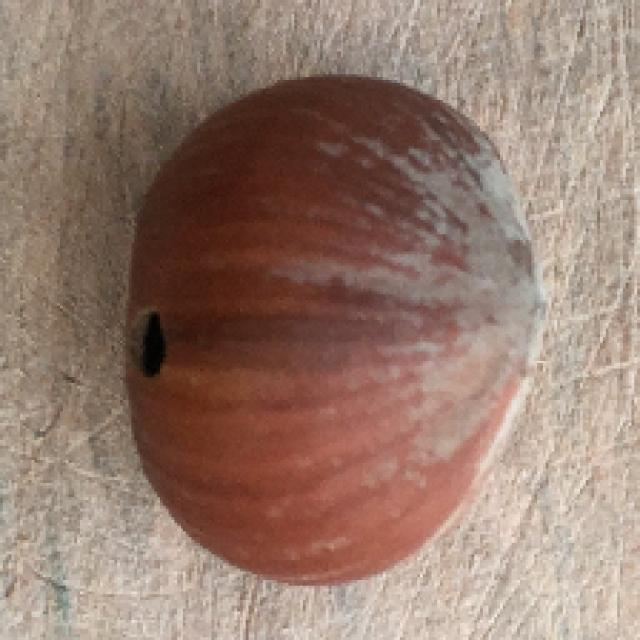DamagedHazelnut: (121, 75, 552, 587)
